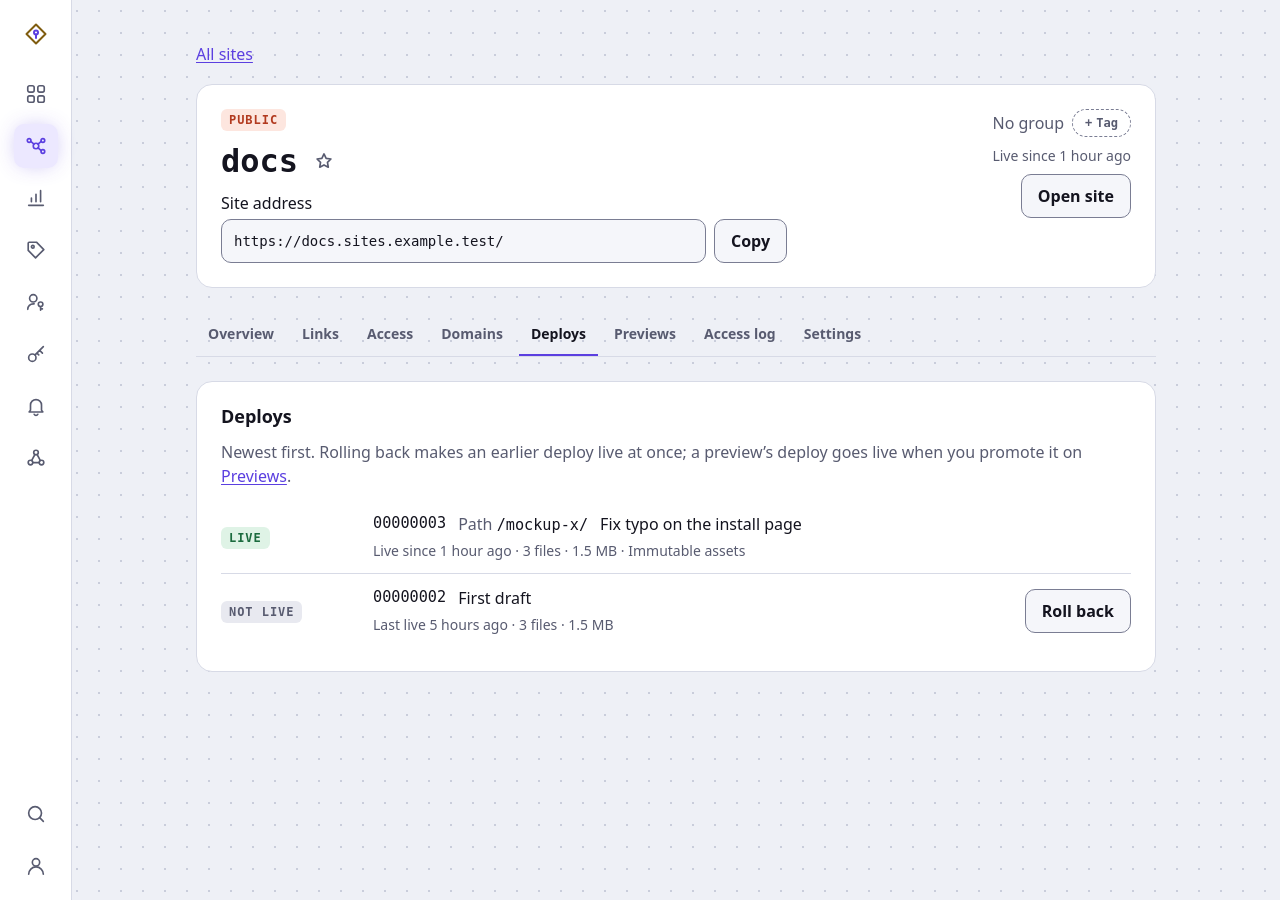
site detail › rolls back after confirming and shows the new live deploy
The width and height of the screenshot is (1280, 900).
Click the button with aria-label "Roll back to deploy 00000002": (1078, 611) [1025,589,1131,633]
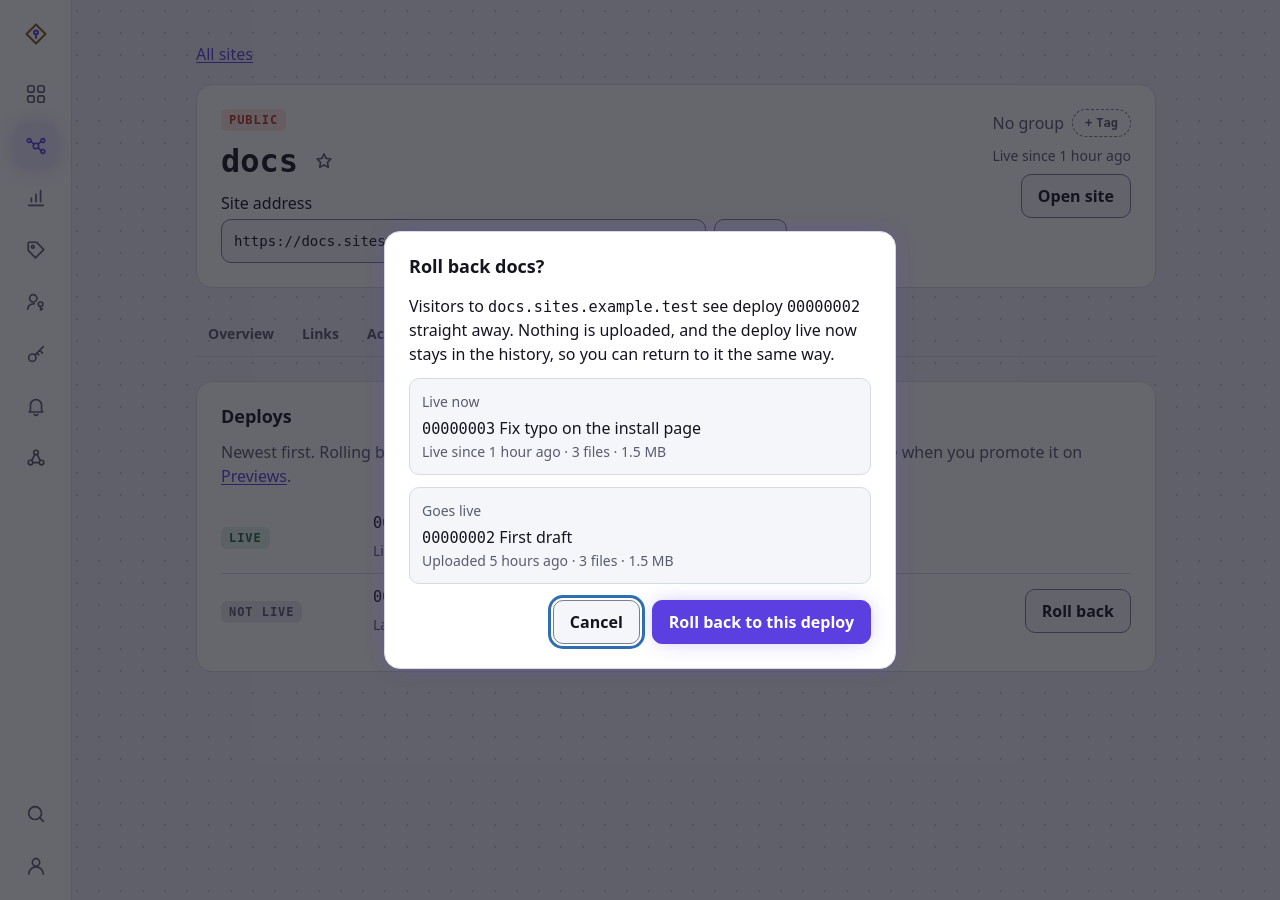
Result: the dialog "Roll back docs?" shows "Live now" at [422,392,480,411]
Result: the dialog "Roll back docs?" shows "Fix typo on the install page" at [499,417,701,439]
Result: the dialog "Roll back docs?" shows "Live since 1 hour ago" at [384,231,896,669]
Click the button "Roll back to this deploy": (761, 622) [652,600,871,644]
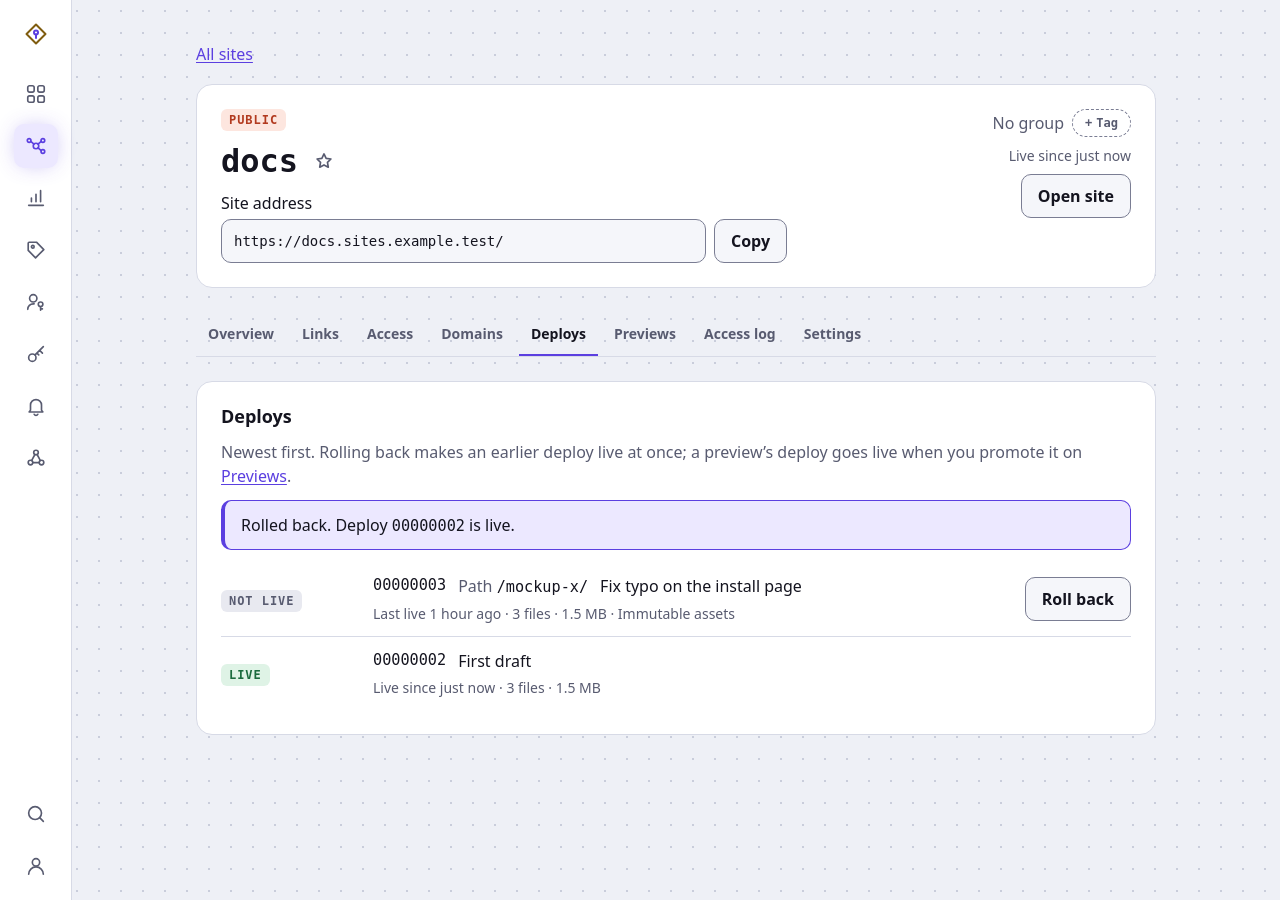
Result: the element that starts with "All sites" shows "Rolled back. Deploy 00000002 is live."
Result: the dialog is gone
Result: the button with aria-label "Roll back to deploy 00000003" is shown at [1025,577,1131,621]
